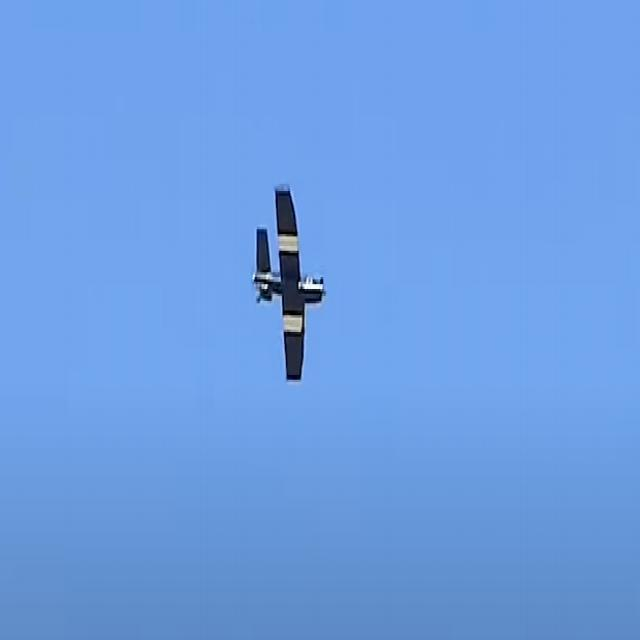iha: (278, 181, 302, 387)
